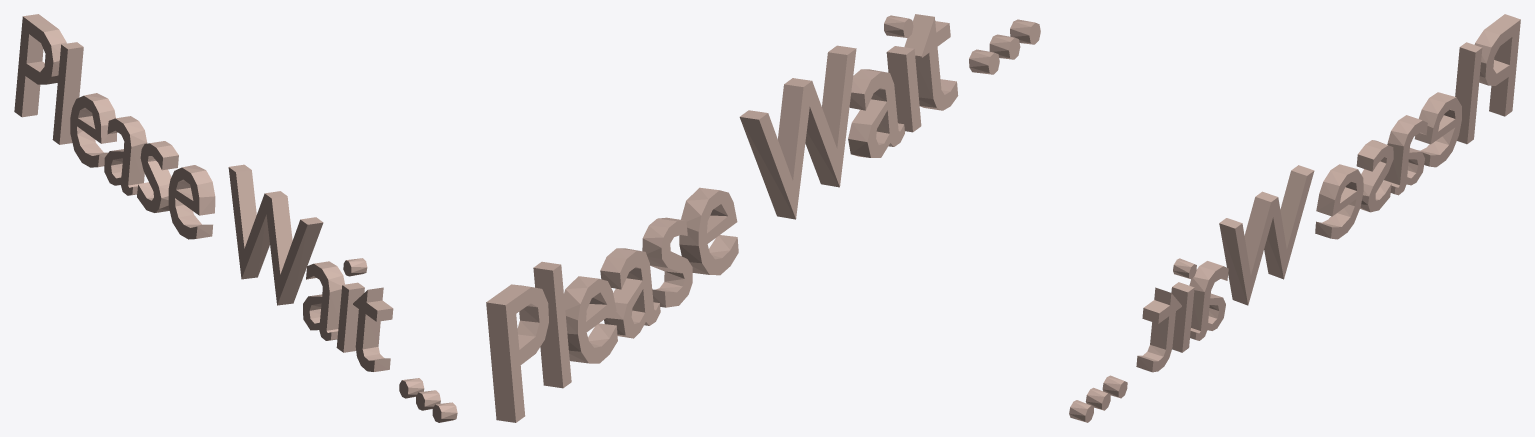
Rendered from please-wait.glb.
3 renders of one model, left to right at view 1: azimuth 30°, elevation 25°; view 2: azimuth 150°, elevation 25°; view 3: azimuth 330°, elevation 25°, orthographic. The views are drawn at different scales.
Parts seen in each view (by area): view 1: Text.001; view 2: Text.001; view 3: Text.001.
Boxes of the visible parts, x1,y1,x2,y2 form: Text.001: (14,14,457,422); Text.001: (486,14,1040,422); Text.001: (1069,14,1520,422).
Bounding box in the file's own units: 0.4883 × 1.85 × 14.74.
